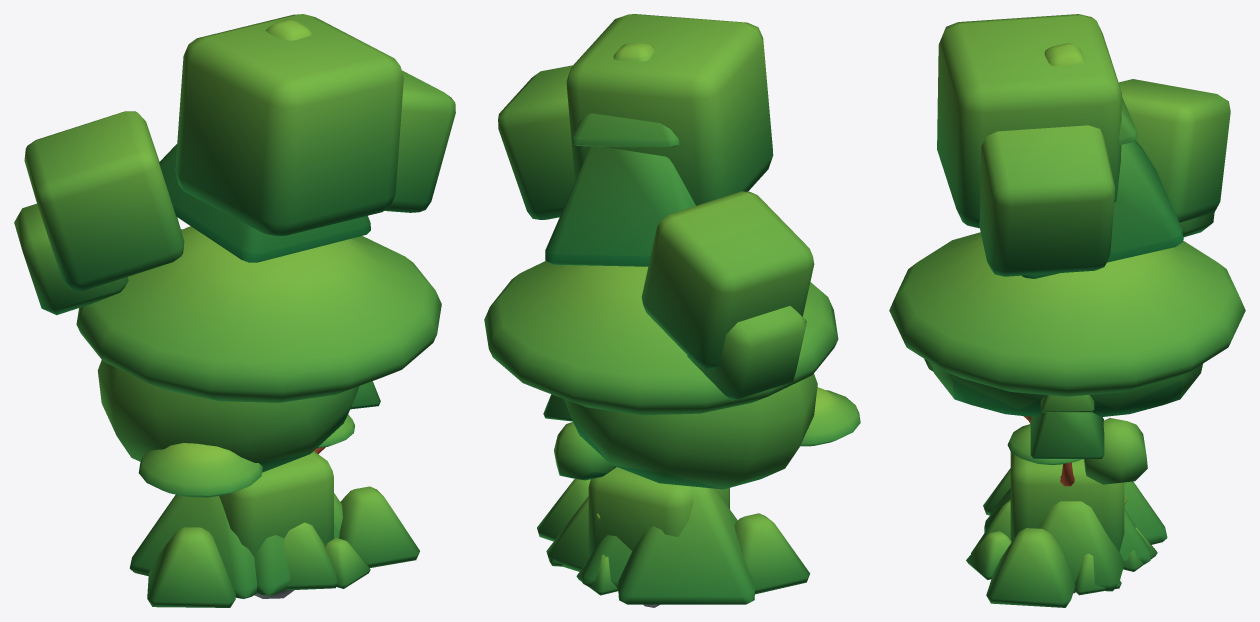
The model's file is nature_refresh14_5.glb.
3 views of the same model, side by side, from view 1: azimuth 30°, elevation 25°; view 2: azimuth 150°, elevation 25°; view 3: azimuth 270°, elevation 25° (orthographic). The views are drawn at different scales.
Parts seen in each view (by area): view 1: Tree_2_C_Color1, Tree_3_B_Color1, Tree_1_A_Color1, Bush_4_F_Color1, Bush_4_E_Color1, Bush_2_C_Color1, Tree_4_B_Color1; view 2: Tree_2_C_Color1, Tree_3_B_Color1, Tree_1_A_Color1, Tree_4_B_Color1, Bush_4_E_Color1, Bush_4_F_Color1, Bush_2_C_Color1; view 3: Tree_2_C_Color1, Tree_3_B_Color1, Tree_4_B_Color1, Bush_4_F_Color1, Tree_1_A_Color1, Bush_4_E_Color1, Bush_2_C_Color1.
Boxes of the visible parts, box(x1,y1,x2,y2) form: Tree_2_C_Color1: box(14, 14, 455, 315); Tree_3_B_Color1: box(76, 226, 441, 497); Tree_1_A_Color1: box(97, 360, 359, 472); Bush_4_F_Color1: box(147, 486, 419, 607); Bush_4_E_Color1: box(129, 493, 342, 598); Bush_2_C_Color1: box(219, 451, 333, 556); Tree_4_B_Color1: box(159, 19, 380, 453); Tree_2_C_Color1: box(498, 14, 814, 400); Tree_3_B_Color1: box(484, 261, 860, 446); Tree_1_A_Color1: box(554, 374, 817, 489); Tree_4_B_Color1: box(543, 43, 695, 421); Bush_4_E_Color1: box(546, 486, 754, 604); Bush_4_F_Color1: box(537, 479, 810, 594); Bush_2_C_Color1: box(588, 467, 729, 556); Tree_2_C_Color1: box(937, 14, 1230, 276); Tree_3_B_Color1: box(889, 232, 1245, 464); Tree_4_B_Color1: box(1021, 43, 1183, 486); Bush_4_F_Color1: box(966, 468, 1150, 607); Tree_1_A_Color1: box(932, 364, 1202, 484); Bush_4_E_Color1: box(971, 481, 1167, 591); Bush_2_C_Color1: box(1010, 452, 1124, 551).
Bounding box in the file's own units: 4.6 × 7.08 × 4.13.
17 materials, 17 textured.
